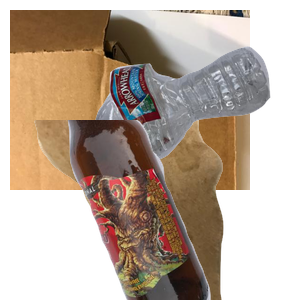cardboard: (10, 10, 250, 190)
glass: (65, 120, 300, 300)
plastic: (72, 44, 300, 200)
trash: (32, 120, 248, 300)
